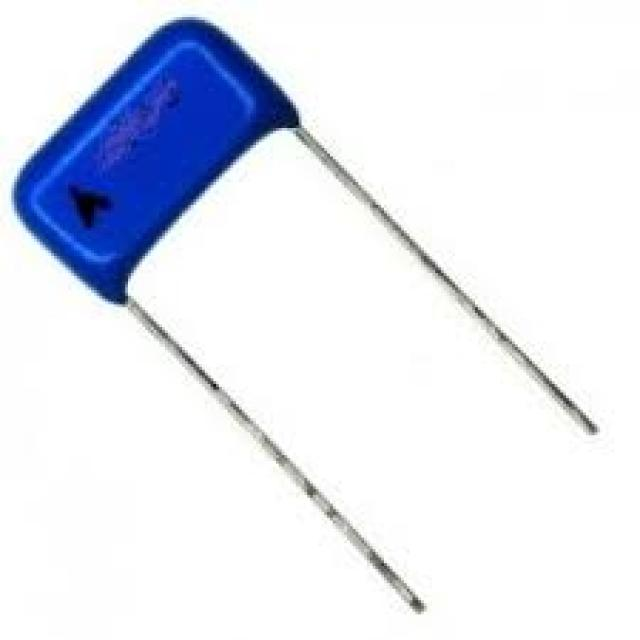Capacitor: (11, 17, 594, 617)
